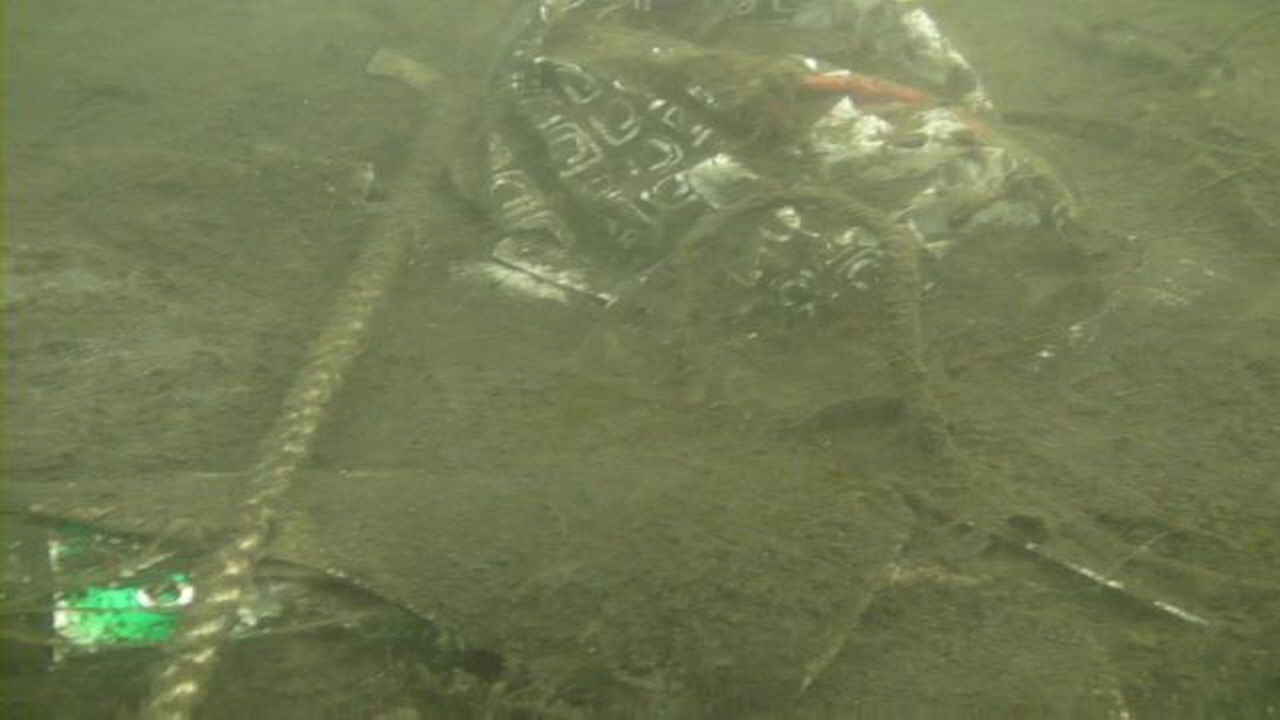rope: (139, 98, 472, 720)
